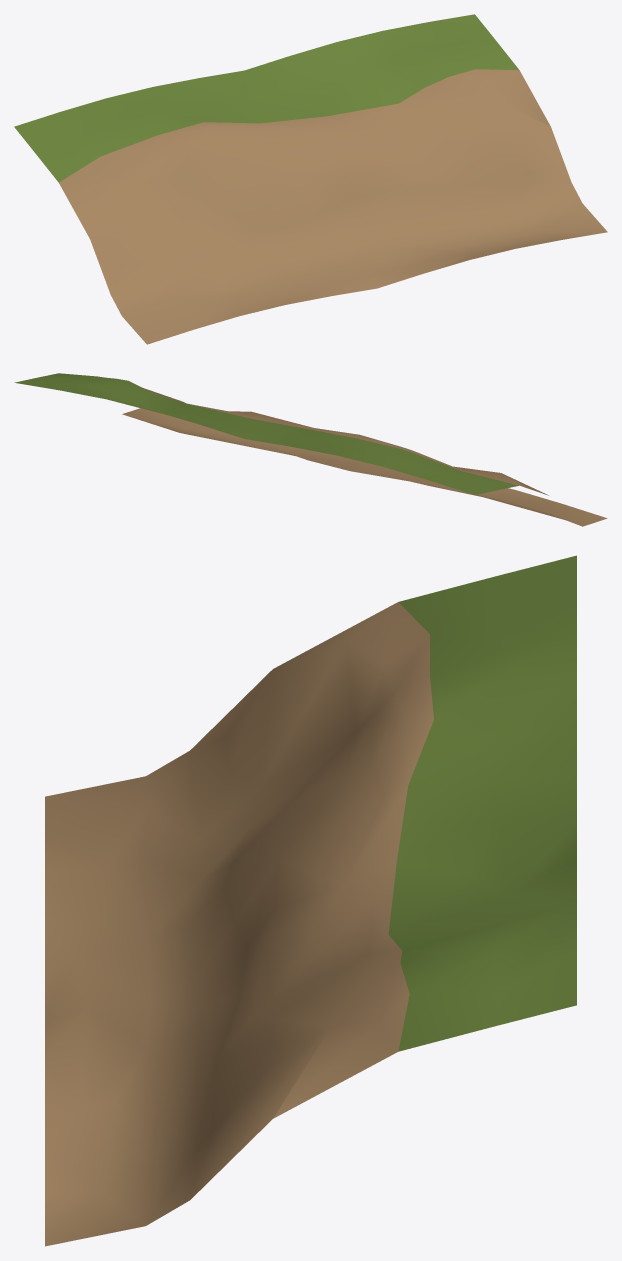
Rendered from rpgpp_av_terrain_lake_01_10x20m.gltf.
The picture shows the model from 3 angles, top to bottom: view 1: azimuth 30°, elevation 25°; view 2: azimuth 150°, elevation 25°; view 3: azimuth 270°, elevation 25°; orthographic projection. The views are drawn at different scales.
Parts seen in each view (by area): view 1: rpgpp_av_terrain_lake_01_10x20m; view 2: rpgpp_av_terrain_lake_01_10x20m; view 3: rpgpp_av_terrain_lake_01_10x20m.
Boxes of the visible parts, x1=… form: rpgpp_av_terrain_lake_01_10x20m: x1=14, y1=14, x2=607, y2=344; rpgpp_av_terrain_lake_01_10x20m: x1=14, y1=373, x2=607, y2=526; rpgpp_av_terrain_lake_01_10x20m: x1=45, y1=555, x2=576, y2=1246.
Size of the model in its own units: 0.2 by 0.0525 by 0.1.
Materials: 1 (1 with a texture image).
